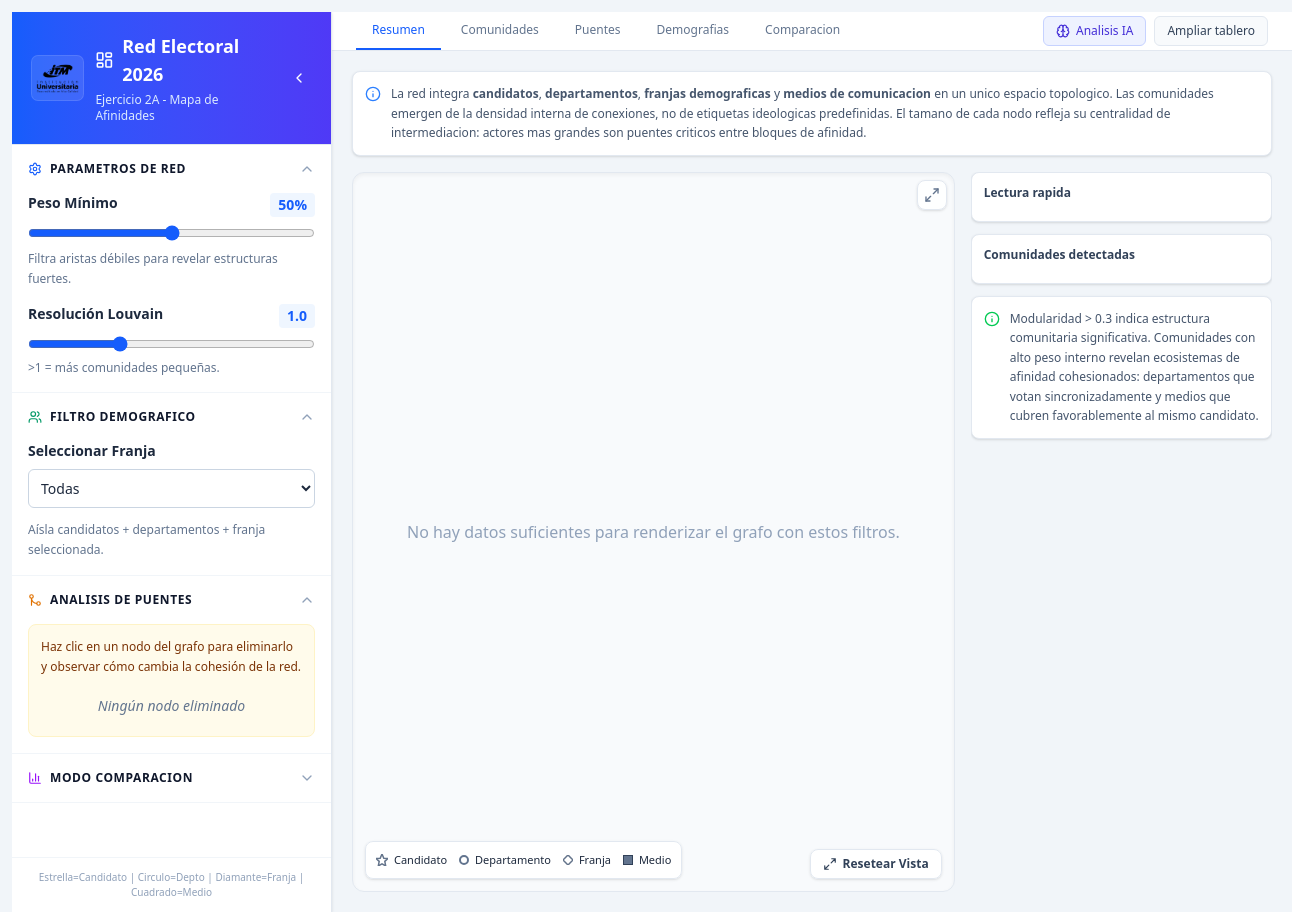
Test: App integration › permite navegar a puentes y demografias
This screenshot has width=1292, height=912.
Expected: the heading "Red Electoral 2026" is shown, top-left (95, 34), bottom-right (239, 86)
Click the button "Puentes" at point(598, 31), box top-left (559, 12), bottom-right (636, 50)
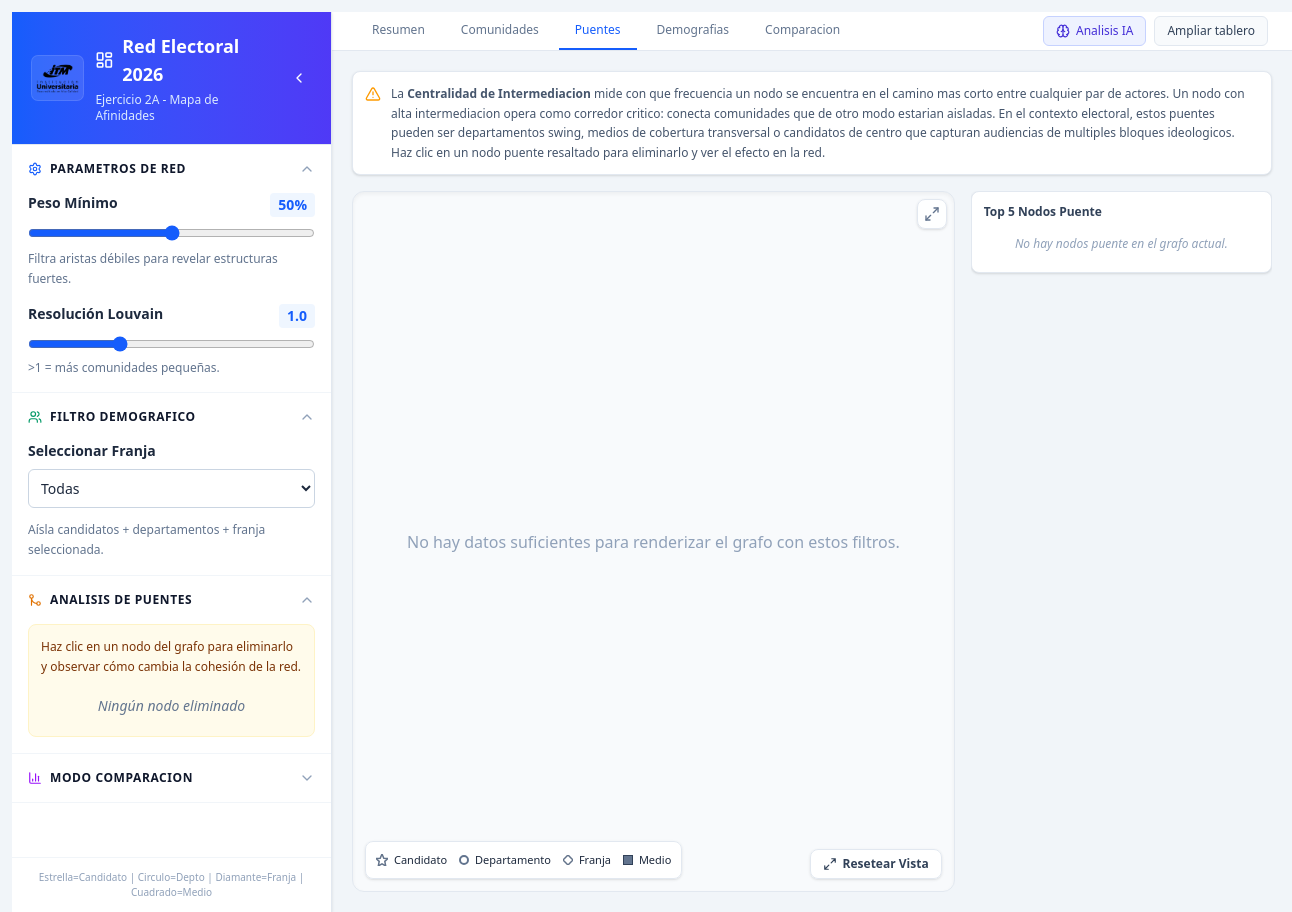
Expected: the text "Centralidad de Intermediacion" is shown, top-left (407, 85), bottom-right (591, 102)
Click the button "Demografias" at point(693, 31), box top-left (640, 12), bottom-right (745, 50)
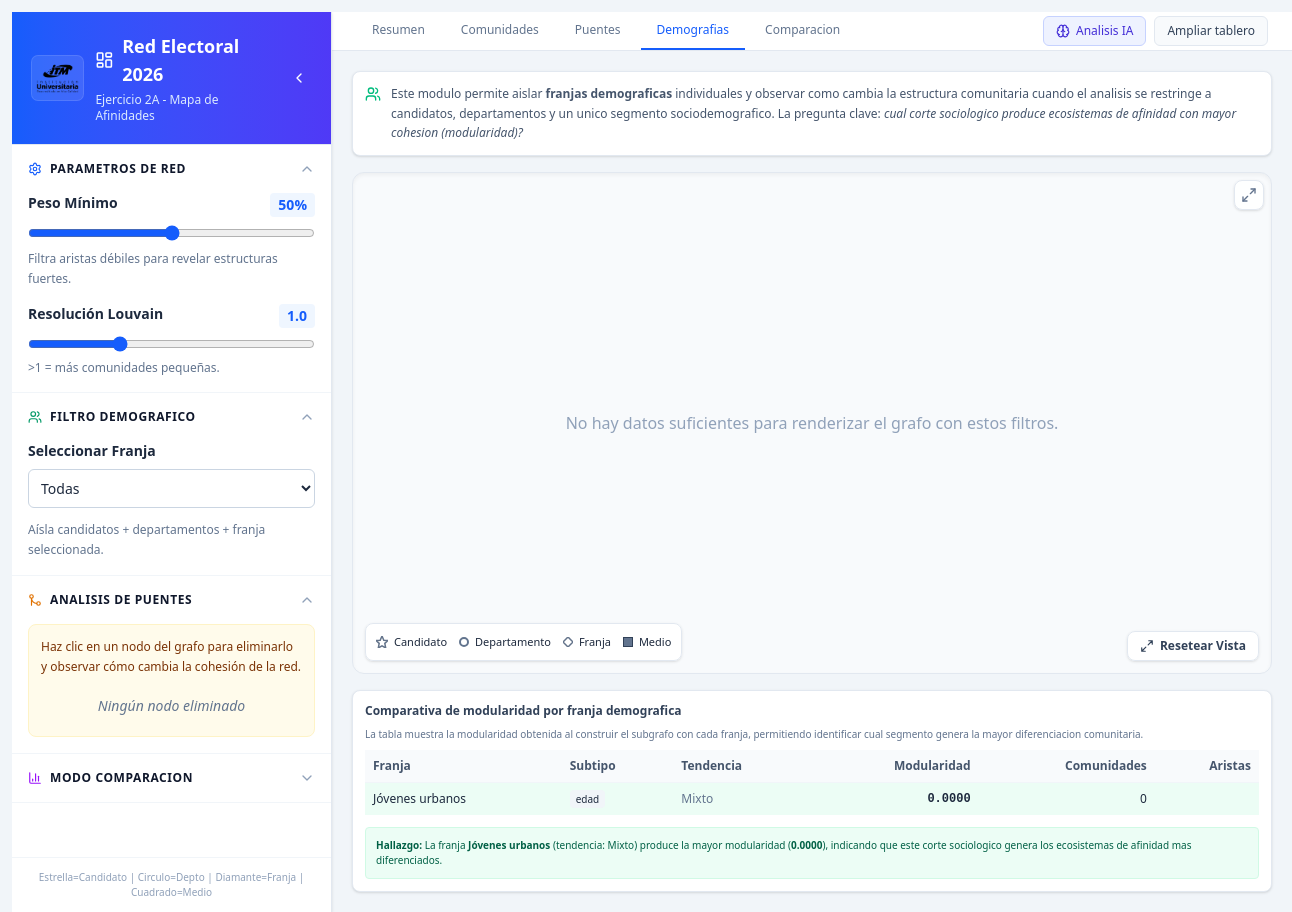
Result: the heading "Comparativa de modularidad por franja demografica" is shown at top-left (365, 702), bottom-right (682, 719)
